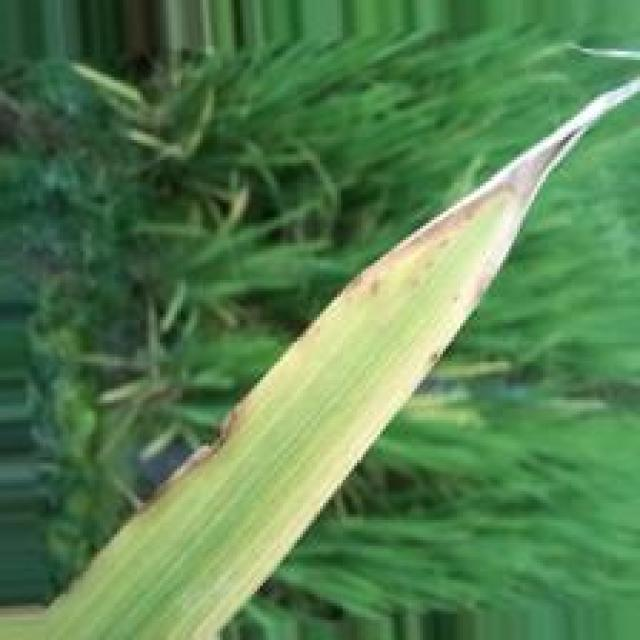Leaf_Scald: (389, 121, 584, 302)
